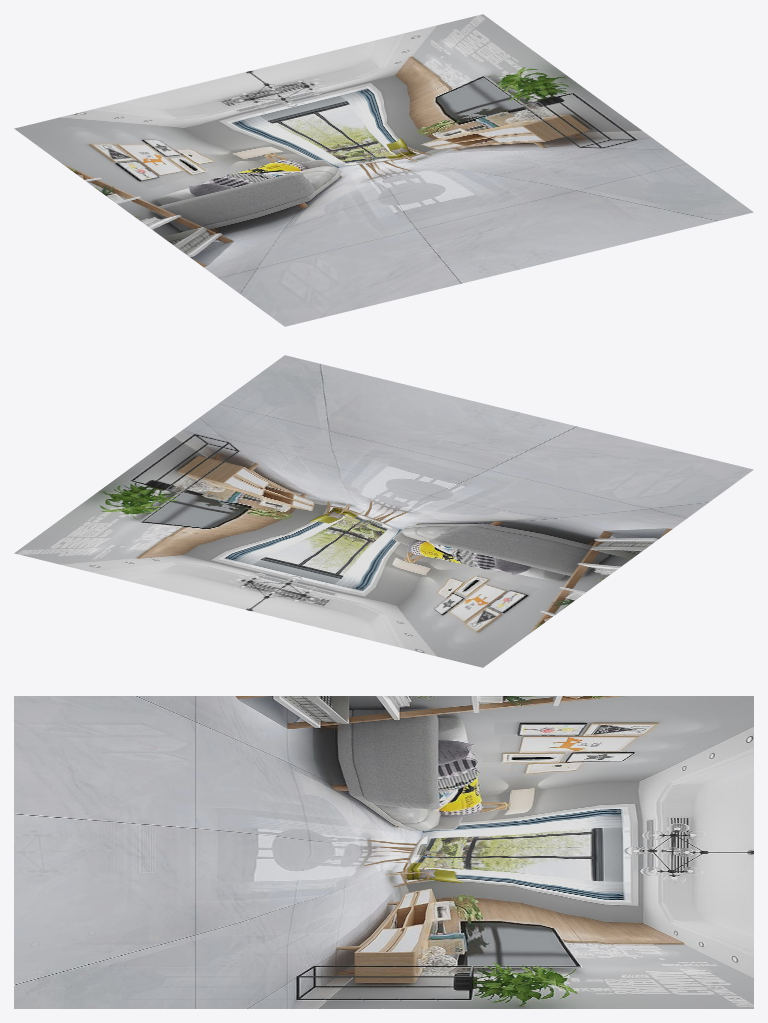
3 renders of one model, top to bottom at view 1: azimuth 30°, elevation 25°; view 2: azimuth 150°, elevation 25°; view 3: azimuth 270°, elevation 25°, orthographic. The views are drawn at different scales.
Visible parts, largest first — view 1: 栅格; view 2: 栅格; view 3: 栅格.
Part boxes in pixels (x1,y1,x2,y2): 栅格: [14, 14, 753, 326]; 栅格: [14, 355, 753, 667]; 栅格: [14, 696, 753, 1008].
Size of the model in its own units: 200 by 3.26e-05 by 200.
1 material, 1 textured.
